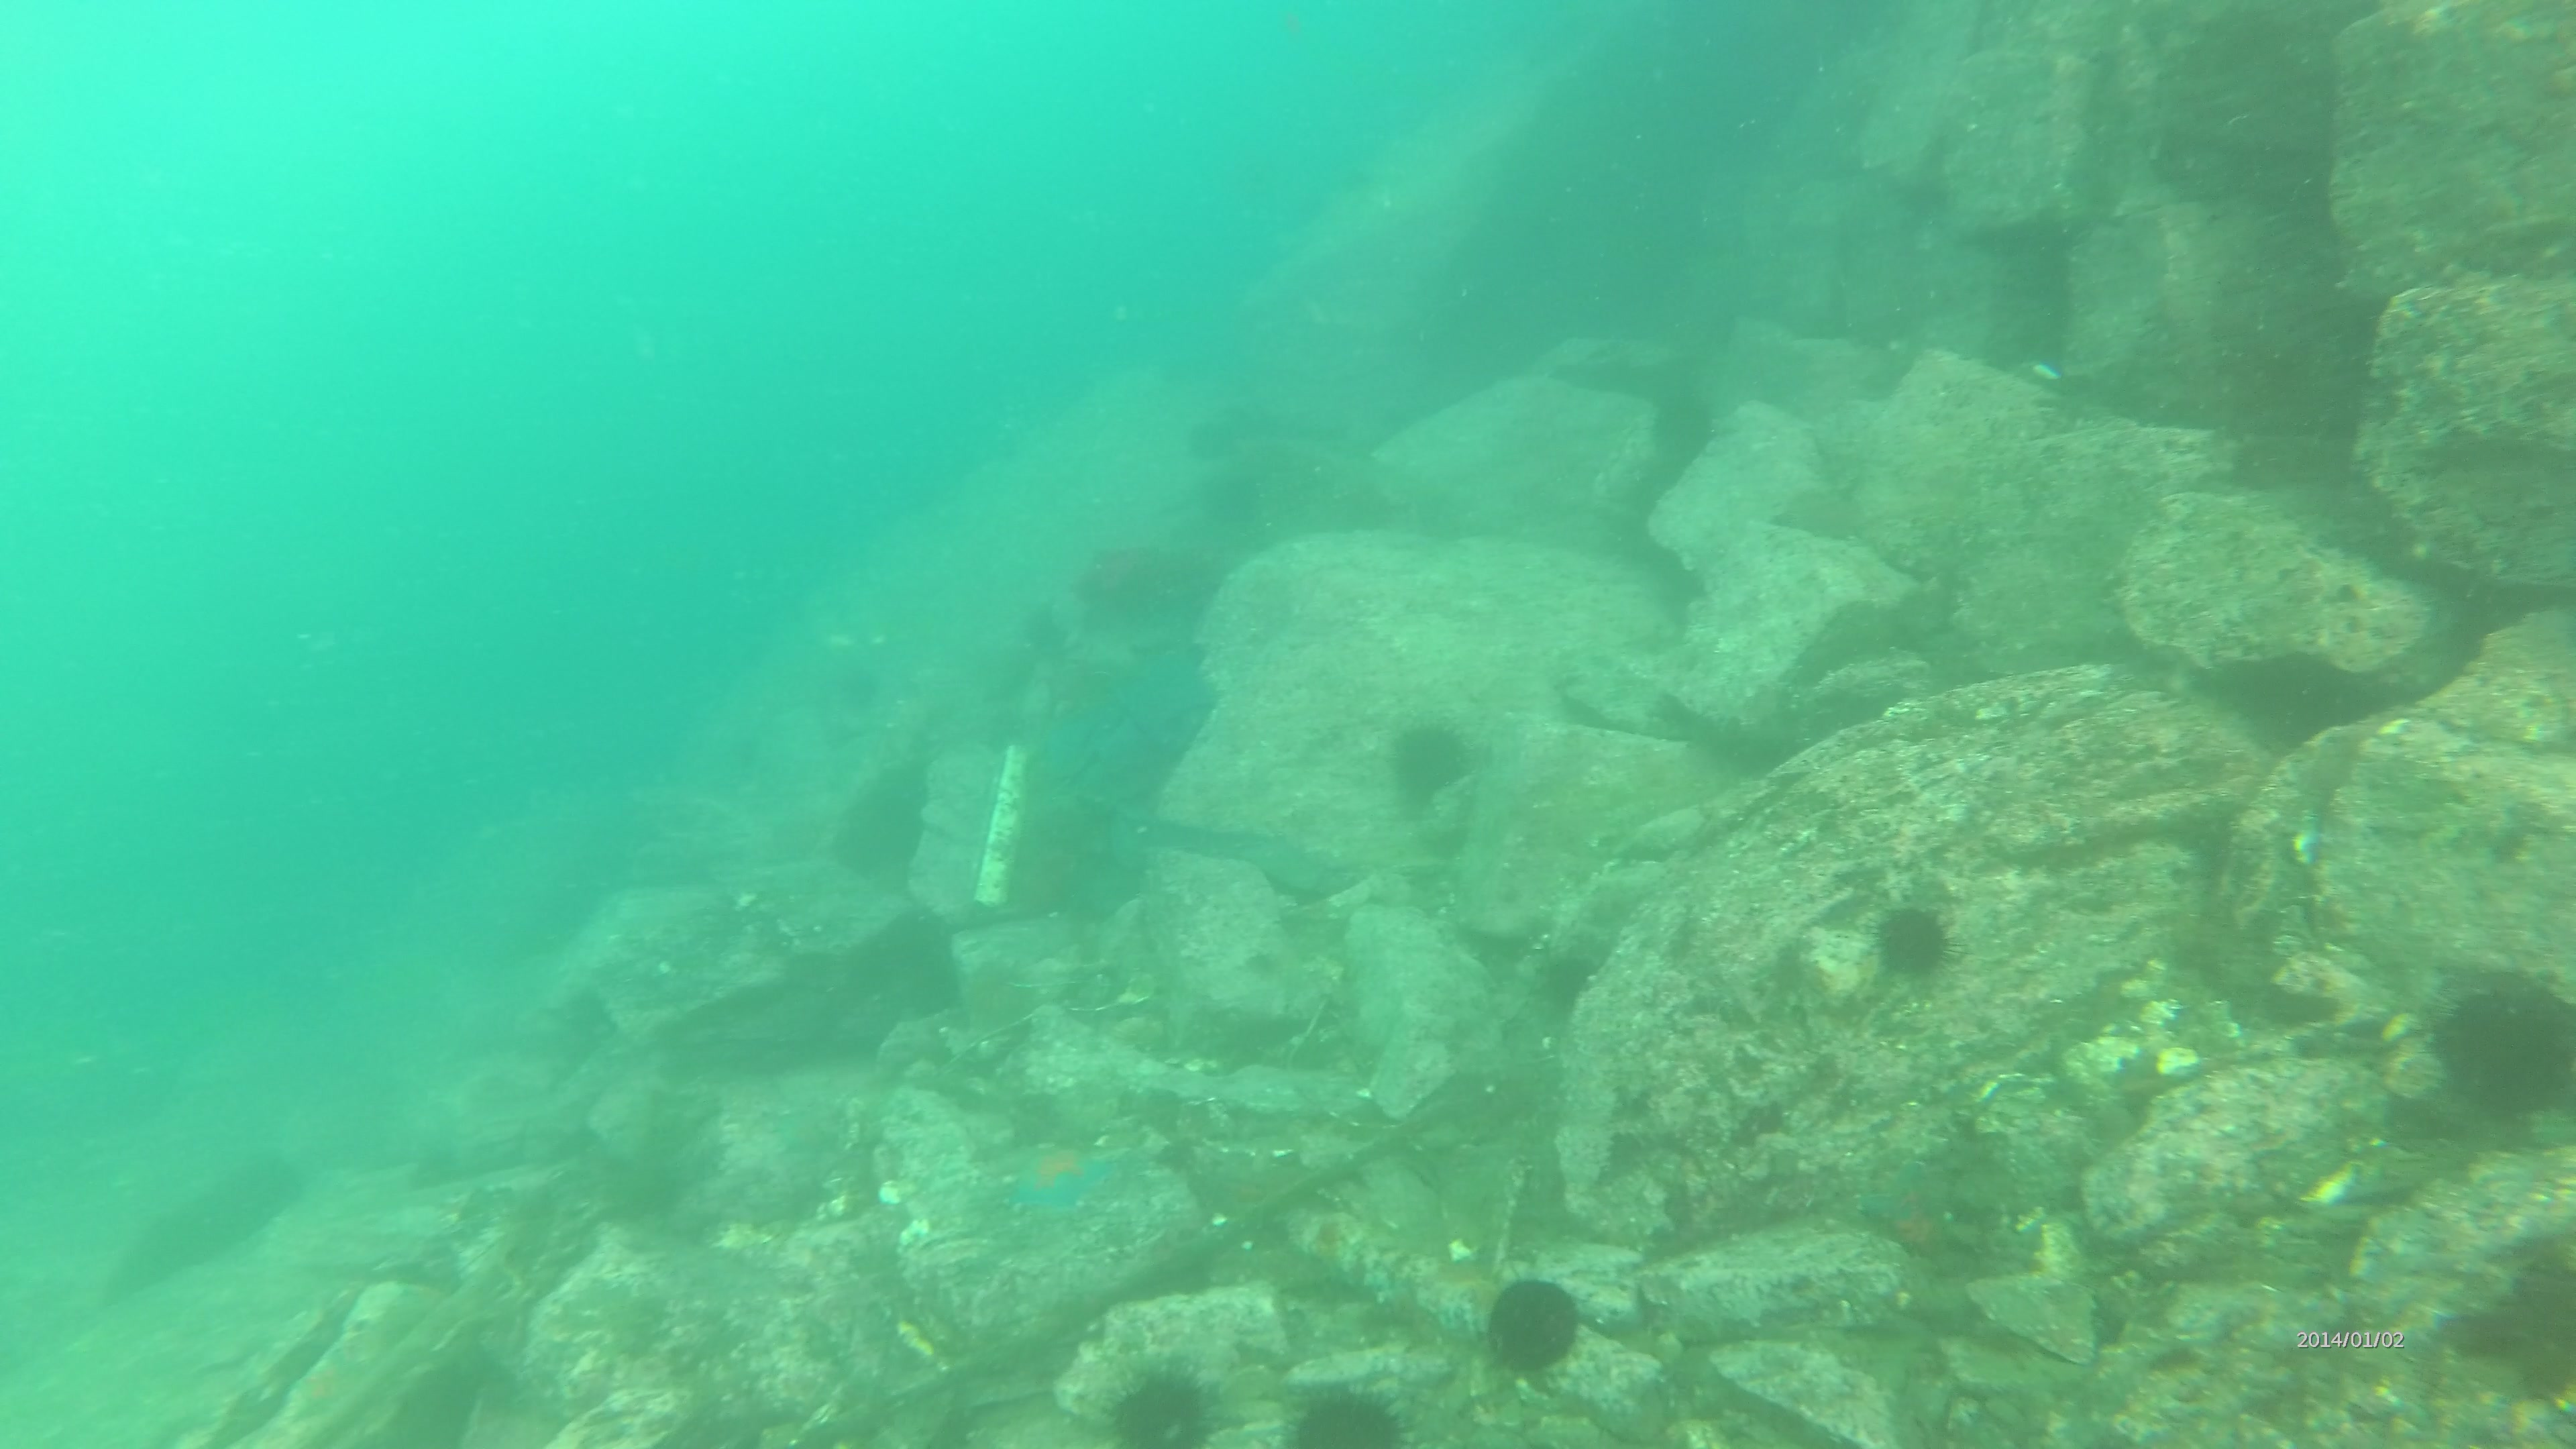echinus: (2429, 975, 2574, 1113), (1472, 1265, 1582, 1371), (1095, 1357, 1221, 1449), (1270, 1378, 1405, 1449), (1868, 901, 1957, 987), (1387, 717, 1468, 796)
starfish: (1003, 1138, 1120, 1226)
